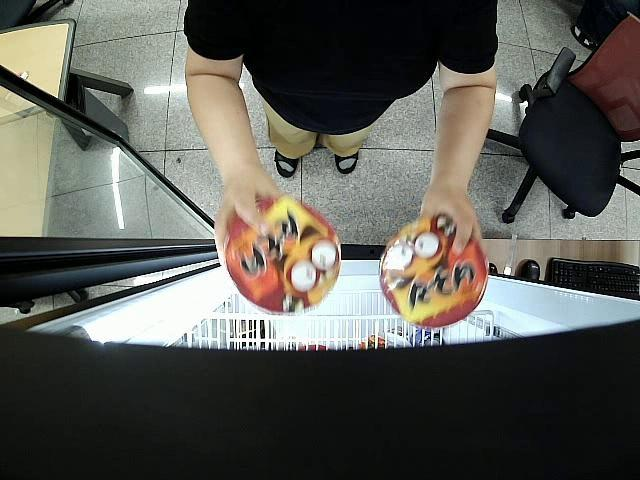05_nuguri_L: (225, 198, 340, 314), (380, 214, 486, 328)
